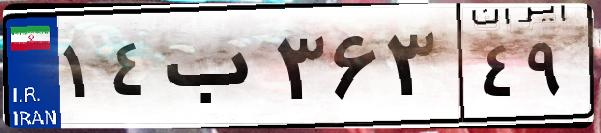1: (57, 26, 110, 100)
3: (270, 28, 330, 110), (385, 28, 445, 110)
4: (475, 38, 525, 113), (110, 28, 158, 98)
6: (330, 28, 385, 110)
9: (525, 38, 570, 115)
ب: (158, 20, 270, 120)
